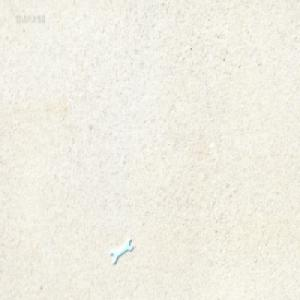Wrench: (110, 236, 132, 264)
